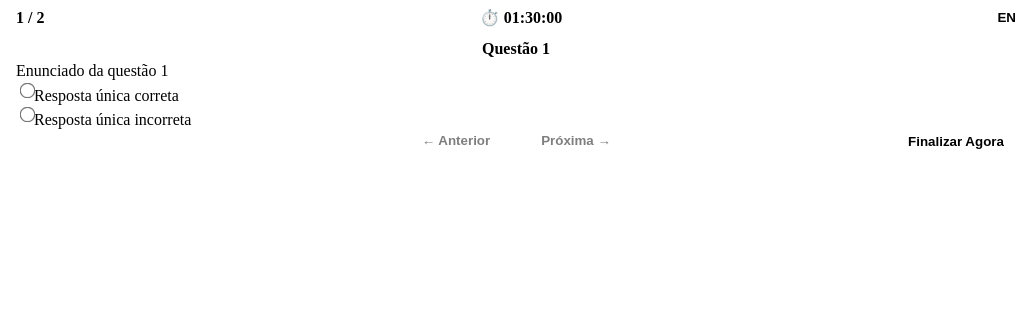
Test: resposta única errada mostra a explicação da correta e a da resposta escolhida
Click the text "Resposta única incorreta".
click(113, 119)  # box [34,111,191,128]
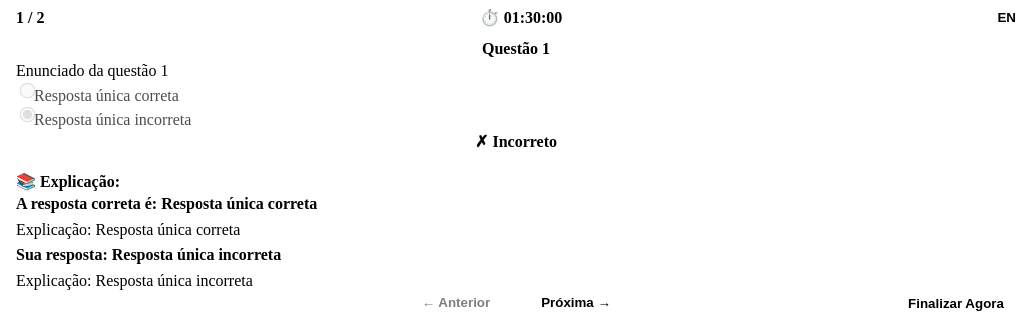
Expected: the text "A resposta correta é: Resposta única correta" is shown, [16,195,317,212]
Expected: the text "Explicação: Resposta única correta" is shown, [16,221,240,238]
Expected: the text "Sua resposta: Resposta única incorreta" is shown, [16,246,281,263]
